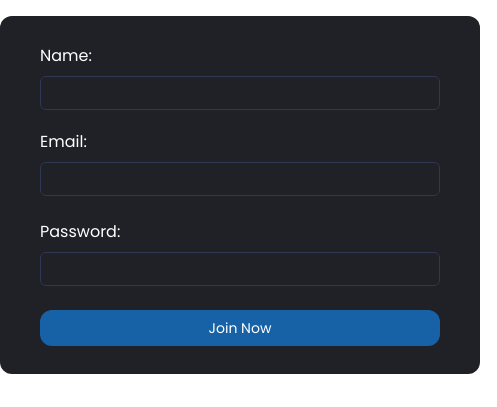
Test: SignupForm › error message "required" for empty name input
Type "alex@example.com" into the field labelled "Email:" at (240, 179), box [40,162,440,196]
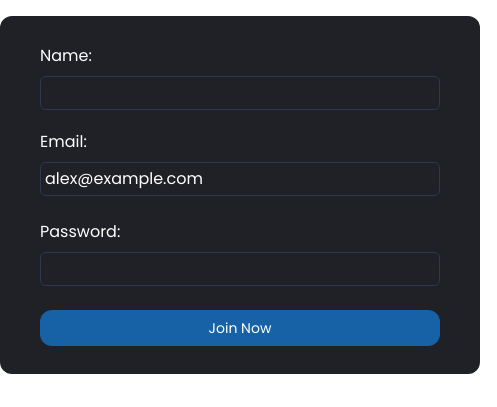
Type "sdfg3456s" into the password field labelled "Password:" at (240, 269), box [40,252,440,286]
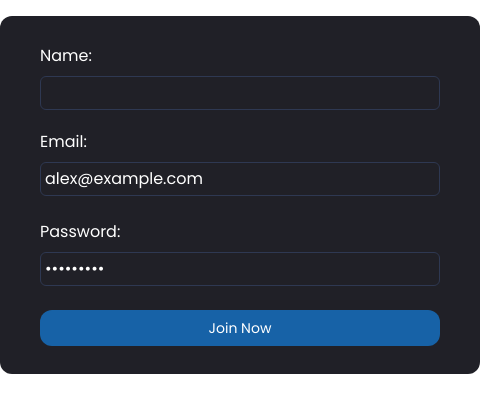
Click the button "Join Now" at (240, 328), box [40,310,440,346]
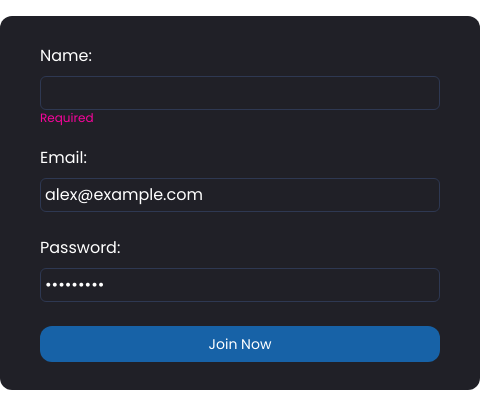
Result: the text "Required" is shown once at [40,109,94,126]
